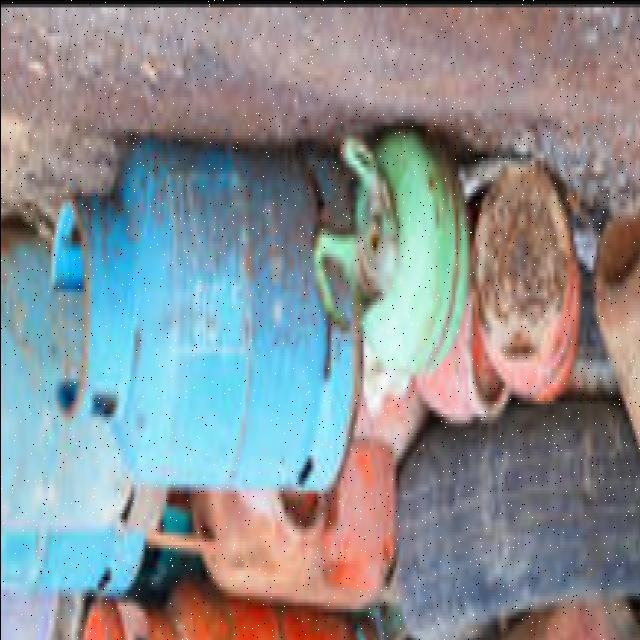cylinder: (50, 141, 360, 494), (311, 128, 468, 373)
